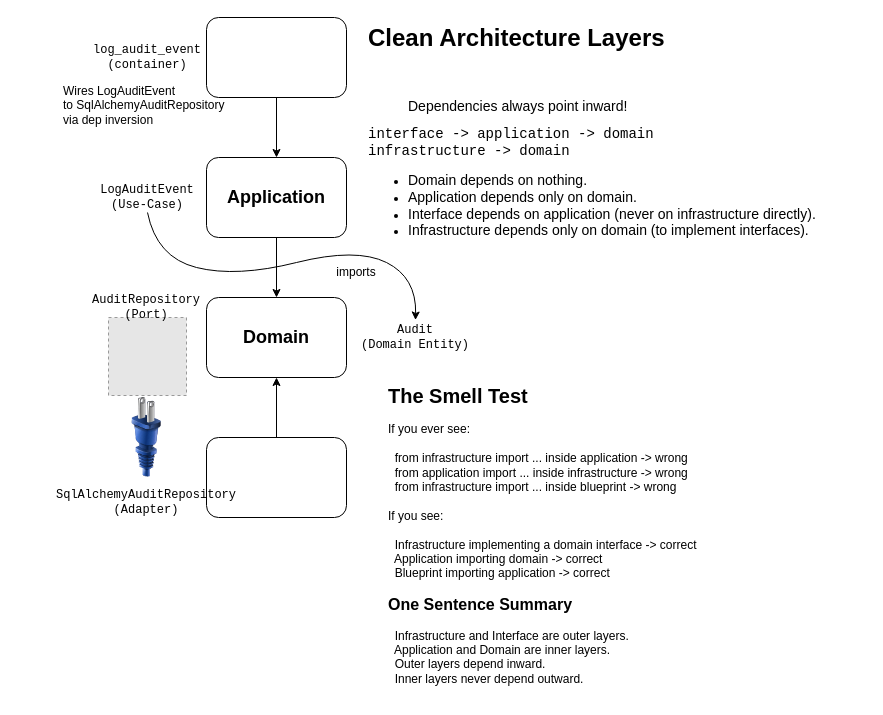
This 883x715 diagram has some shape labels left out. Grey dashed boxes stand in for pictures. Here are the shapes that lost their labels. From the top down, the box of each, then its label:
(206, 16, 346, 98): Interface
(206, 436, 346, 518): Infrastructure
